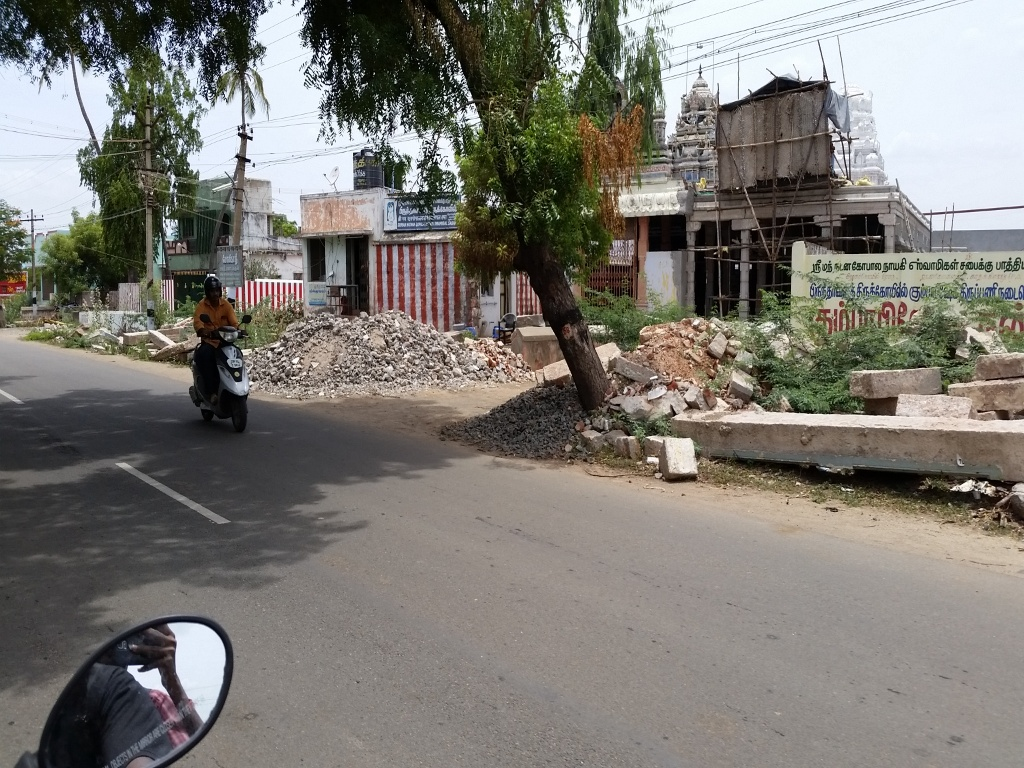biker: (169, 241, 284, 443)
helmet: (197, 269, 232, 318)
